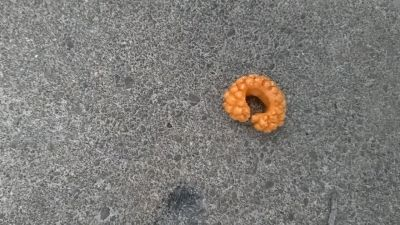eggs: (222, 72, 290, 134)
